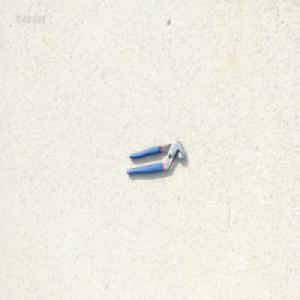Pliers: (124, 138, 185, 176)
